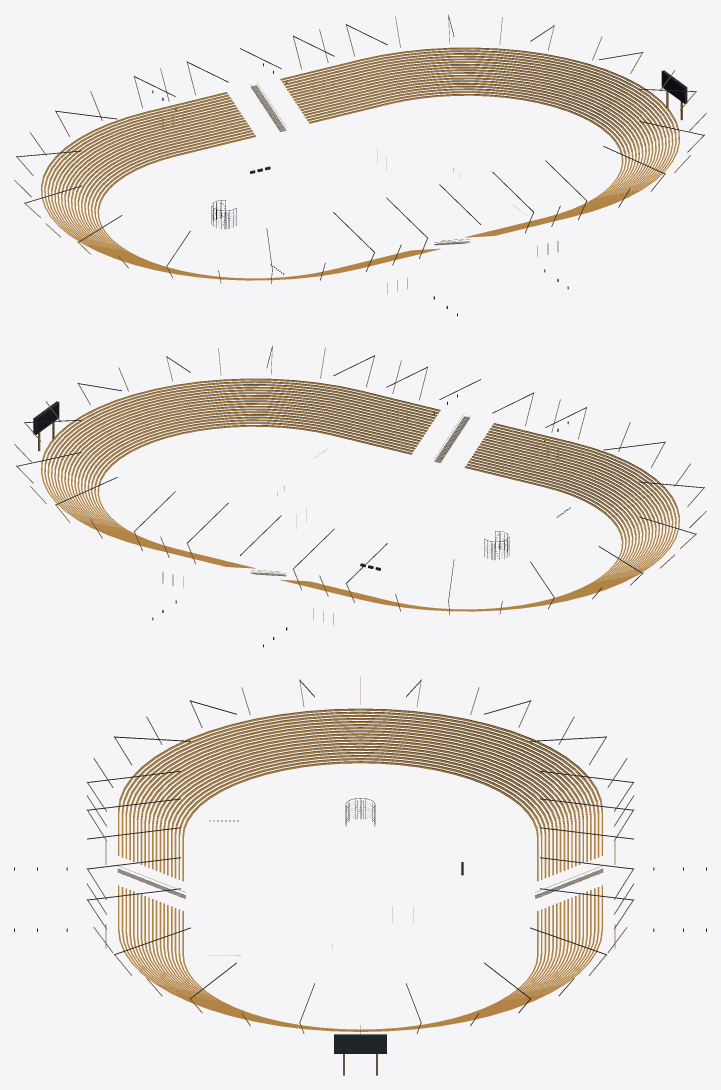
File: dog-athletics-detail.glb
The picture shows the model from 3 angles, top to bottom: view 1: azimuth 30°, elevation 25°; view 2: azimuth 150°, elevation 25°; view 3: azimuth 270°, elevation 25°; orthographic projection. The views are drawn at different scales.
Parts seen in each view (by area): view 1: ATHLETICS_DETAIL; view 2: ATHLETICS_DETAIL; view 3: ATHLETICS_DETAIL.
Boxes of the visible parts, <box> form: ATHLETICS_DETAIL: <box>14,14,706,316</box>; ATHLETICS_DETAIL: <box>14,345,706,647</box>; ATHLETICS_DETAIL: <box>14,676,706,1075</box>.
Size of the model in its own units: 251 by 24.69 by 210.
